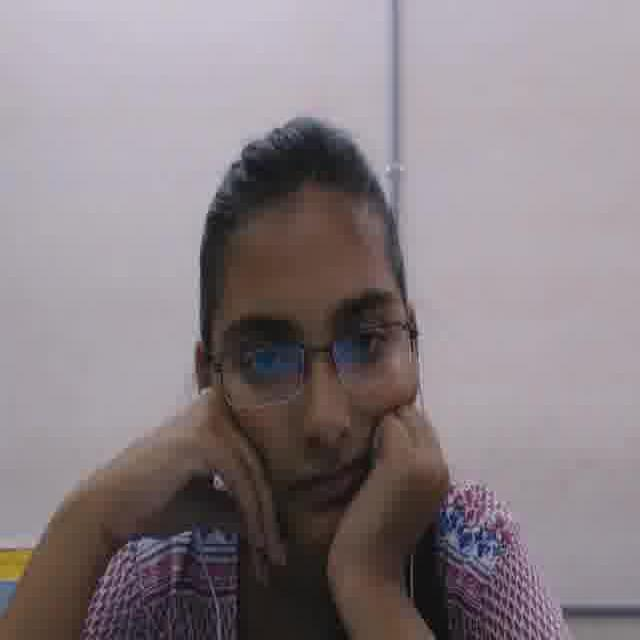Boredom: (215, 216, 415, 561)
